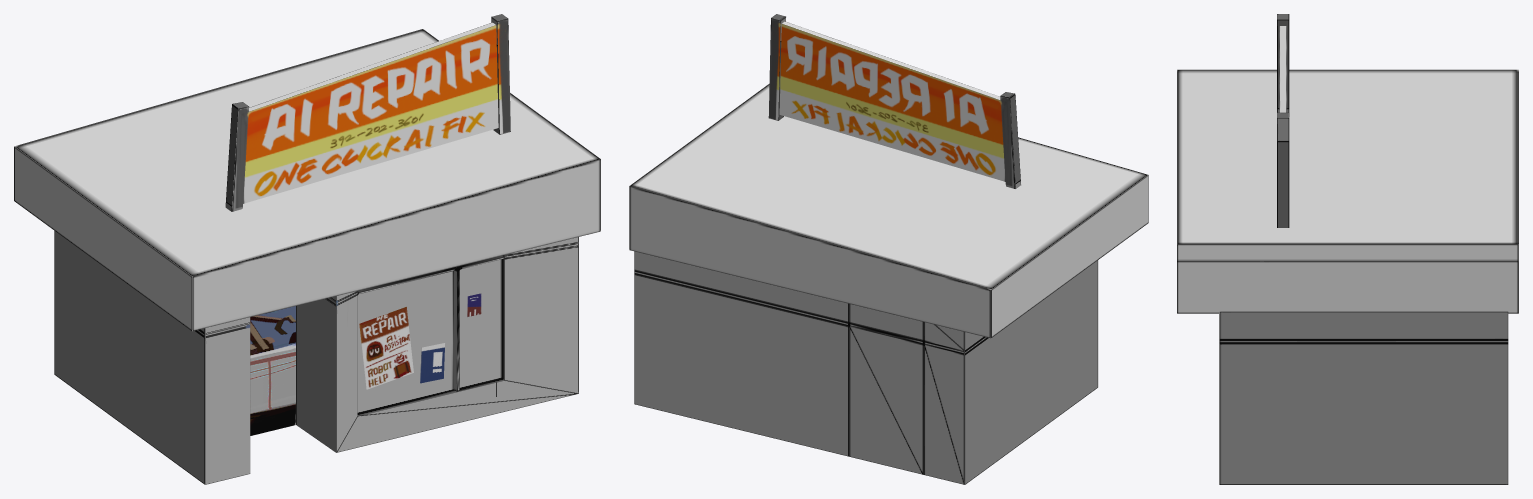
Rendered from street_buildings_6.glb.
3 renders of one model, left to right at view 1: azimuth 30°, elevation 25°; view 2: azimuth 150°, elevation 25°; view 3: azimuth 270°, elevation 25°, orthographic. The views are drawn at different scales.
Parts seen in each view (by area): view 1: Building 6; view 2: Building 6; view 3: Building 6.
Boxes of the visible parts, <box> form: Building 6: <box>14,14,600,484</box>; Building 6: <box>629,14,1148,484</box>; Building 6: <box>1177,14,1518,484</box>.
Size of the model in its own units: 3.13 by 2.66 by 2.36.
1 material, 1 textured.
